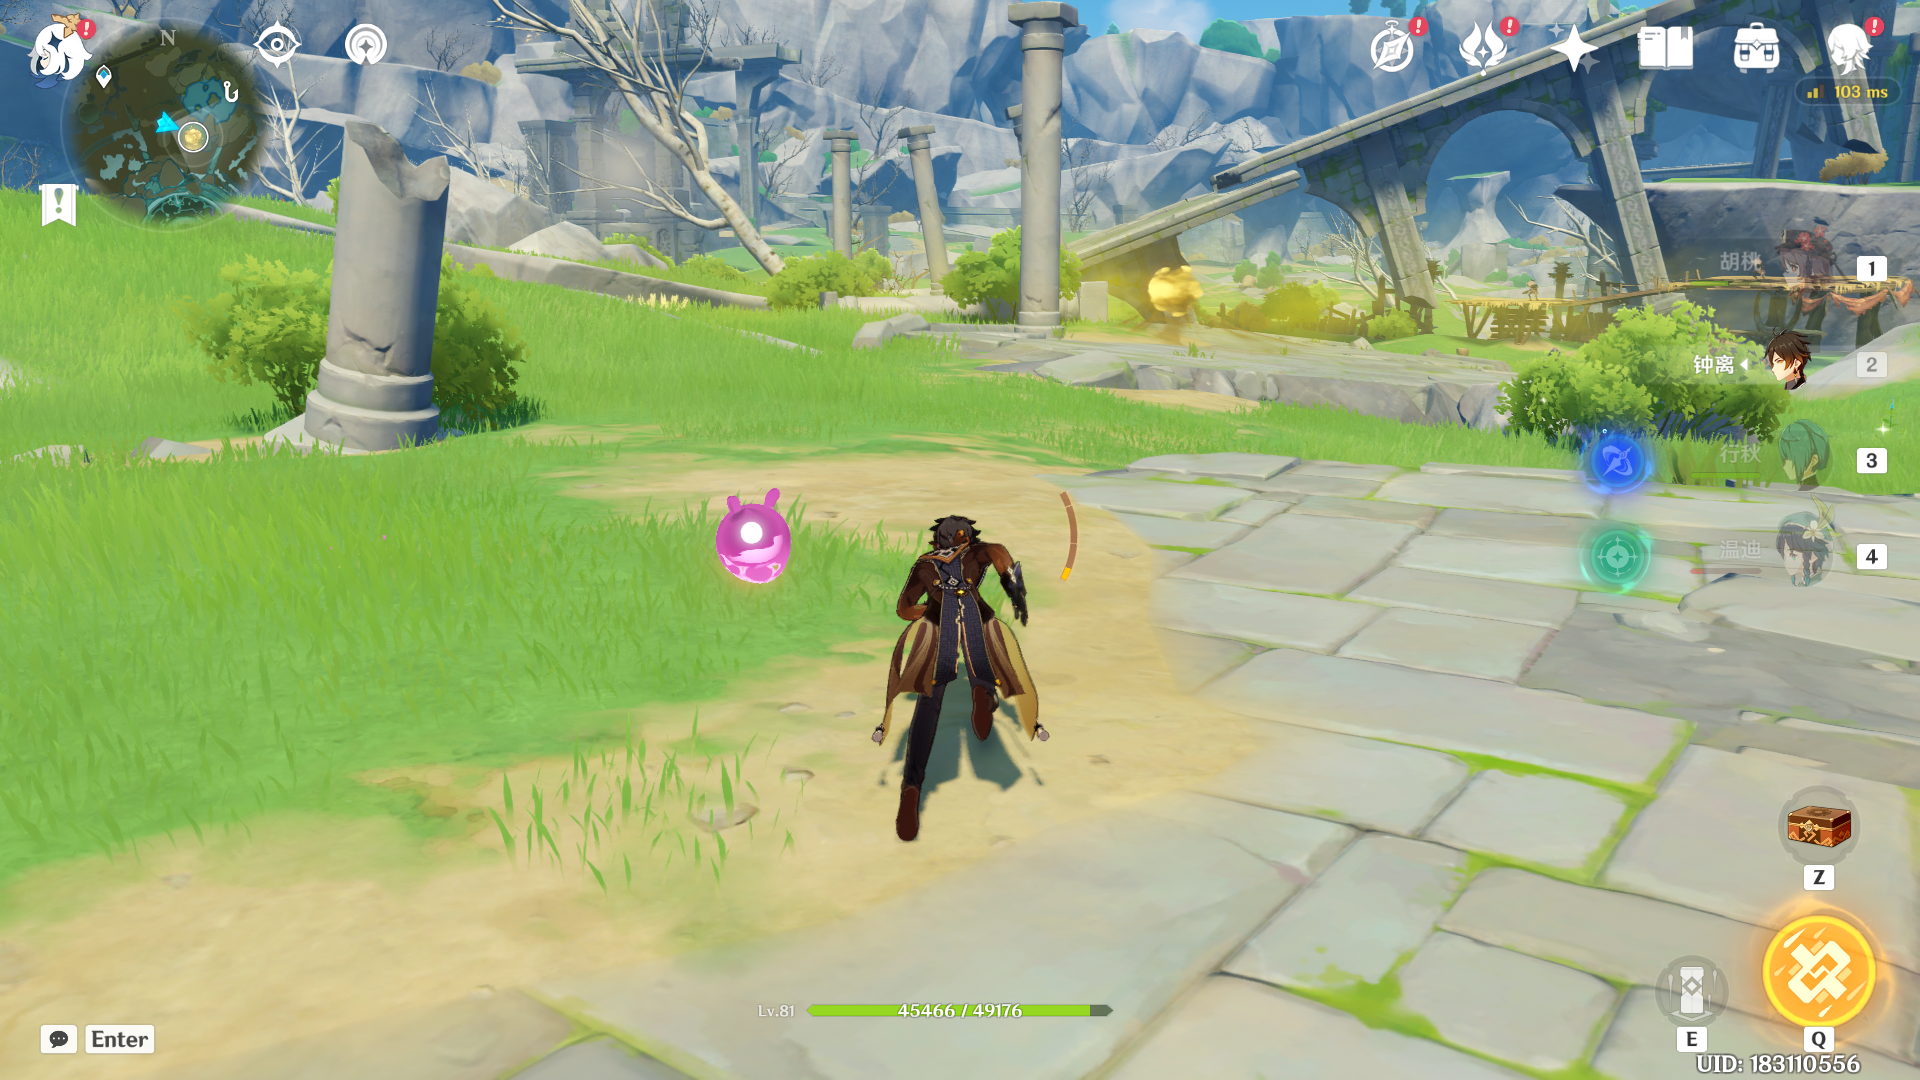character: (836, 495, 1083, 877)
